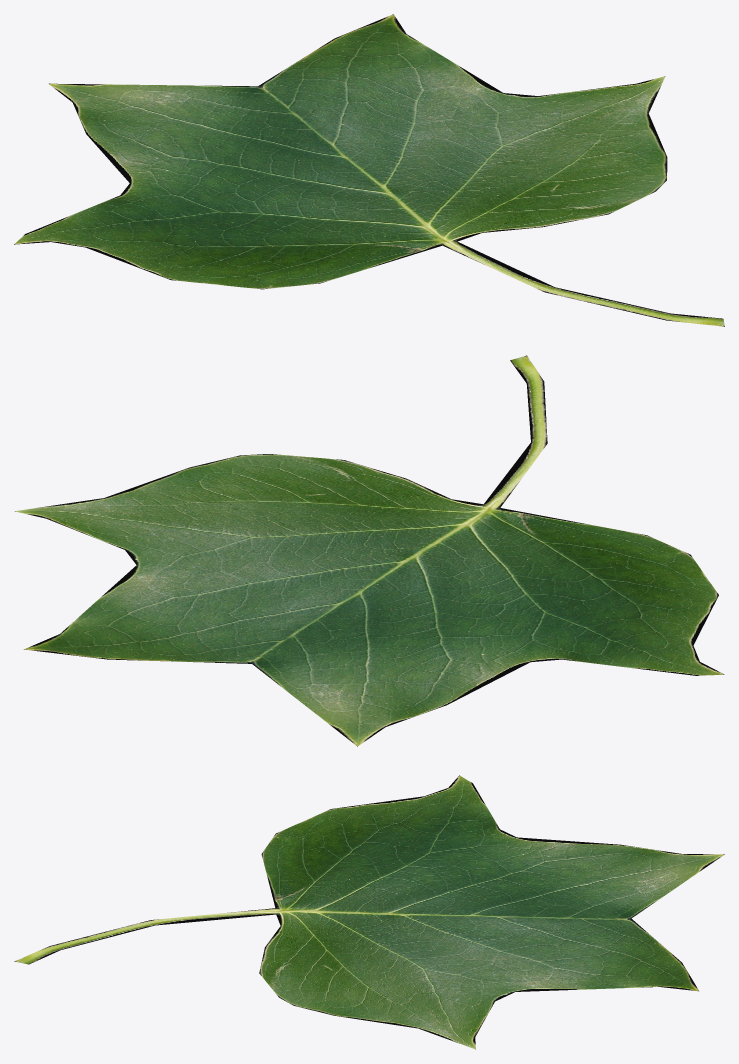
Rendered from leaf_model.glb.
3 renders of one model, top to bottom at view 1: azimuth 30°, elevation 25°; view 2: azimuth 150°, elevation 25°; view 3: azimuth 270°, elevation 25°, orthographic. The views are drawn at different scales.
Visible parts, largest first — view 1: LeafObject; view 2: LeafObject; view 3: LeafObject.
Part boxes in pixels (x1=…): LeafObject: x1=14, y1=14, x2=724, y2=326; LeafObject: x1=15, y1=355, x2=724, y2=746; LeafObject: x1=14, y1=775, x2=724, y2=1049.
Size of the model in its own units: 1728 by 0 by 1893.
Materials: 1 (1 with a texture image).
